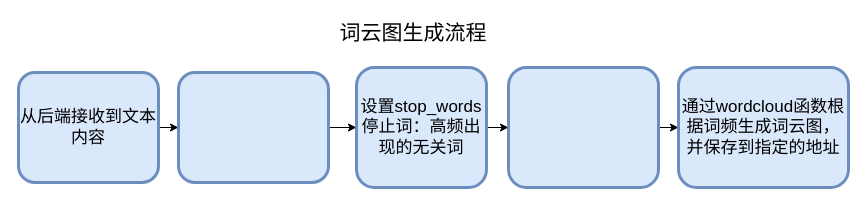
The diagram is 867 pixels wide and 206 high, and some of its shapes have lost their labels. Here are the shapes that lost their labels. From the top down, the box of each, then its label:
(176, 70, 330, 184): 删除文本中的标点符号
(506, 66, 660, 188): 进行jieba分词，同时剔除停止词，并统计词频
